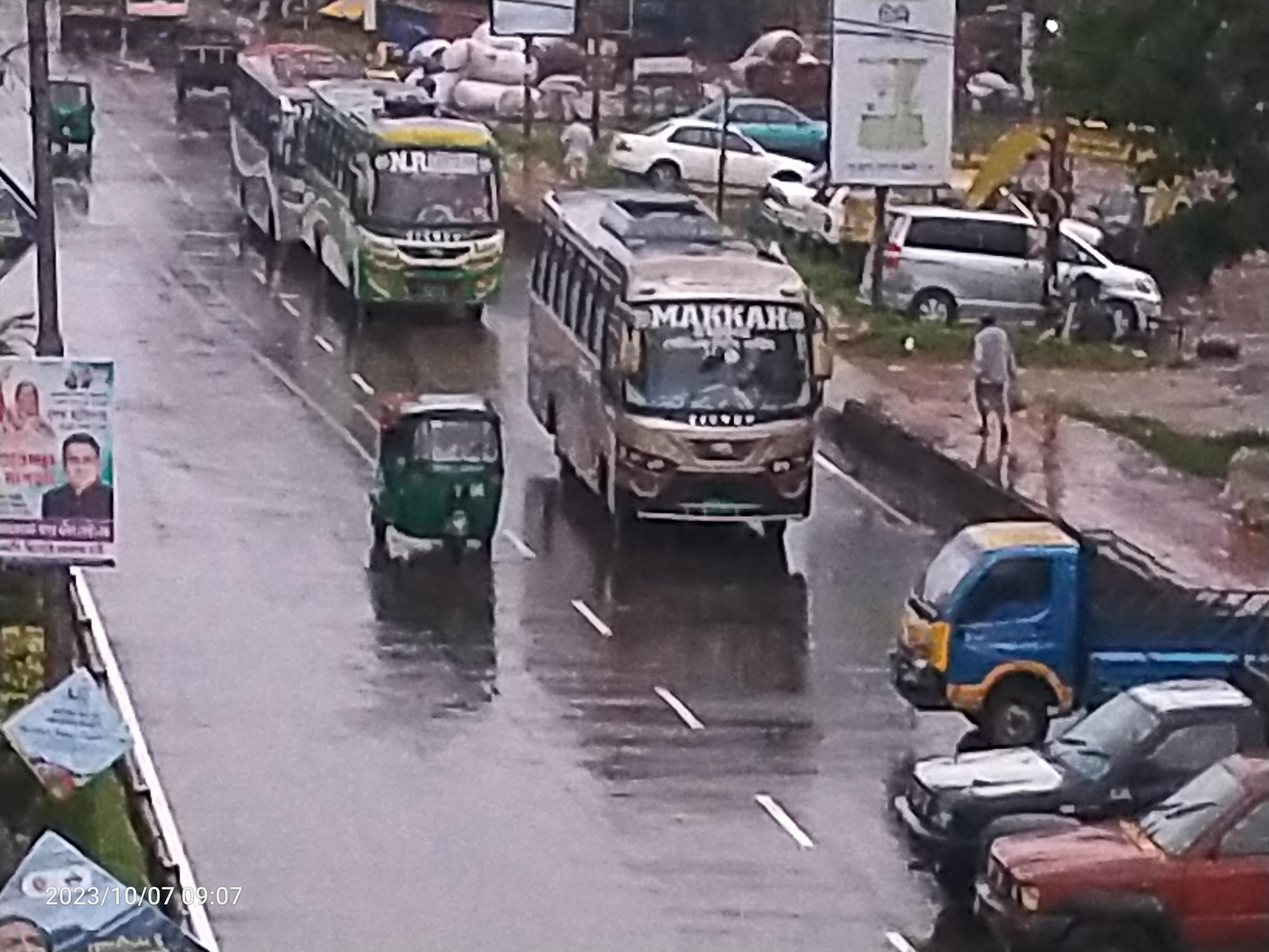Bus: (521, 168, 863, 556), (286, 77, 532, 359), (204, 25, 314, 264)
Car: (840, 178, 1187, 370), (592, 99, 820, 207), (675, 68, 881, 157)
Truck: (864, 486, 1269, 724), (953, 742, 1269, 952), (855, 674, 1269, 823)
